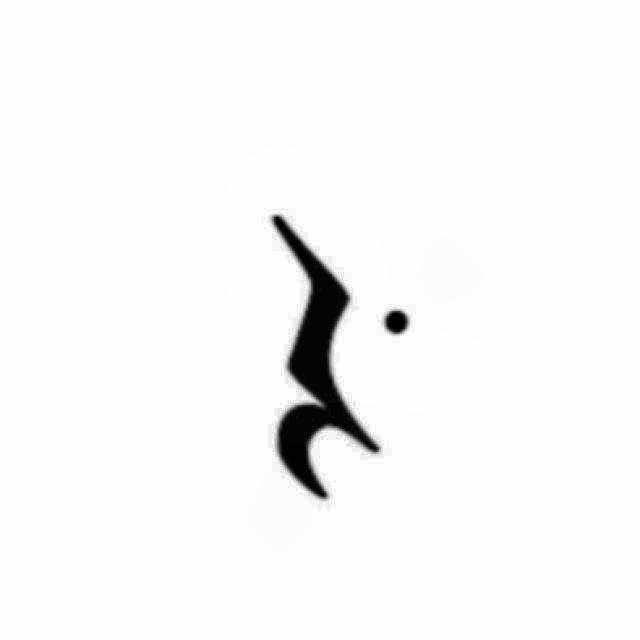Quarter-rest: (256, 202, 428, 506)
